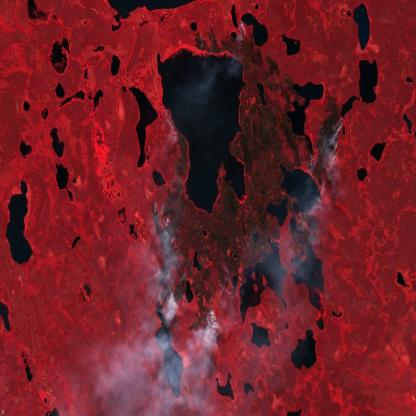fire: (147, 116, 347, 342)
